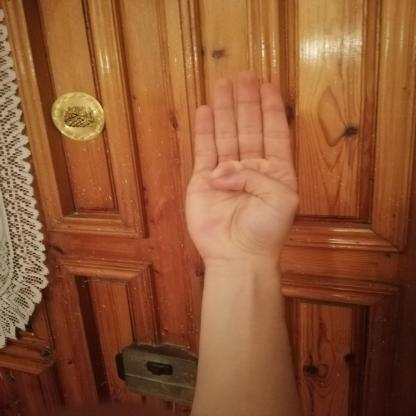KAAF: (166, 62, 312, 274)
